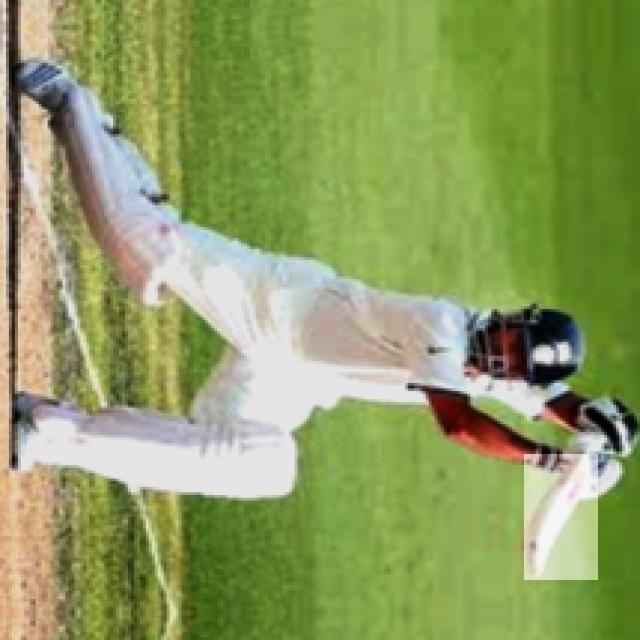bat: (525, 451, 596, 579)
toe: (521, 528, 542, 582)
